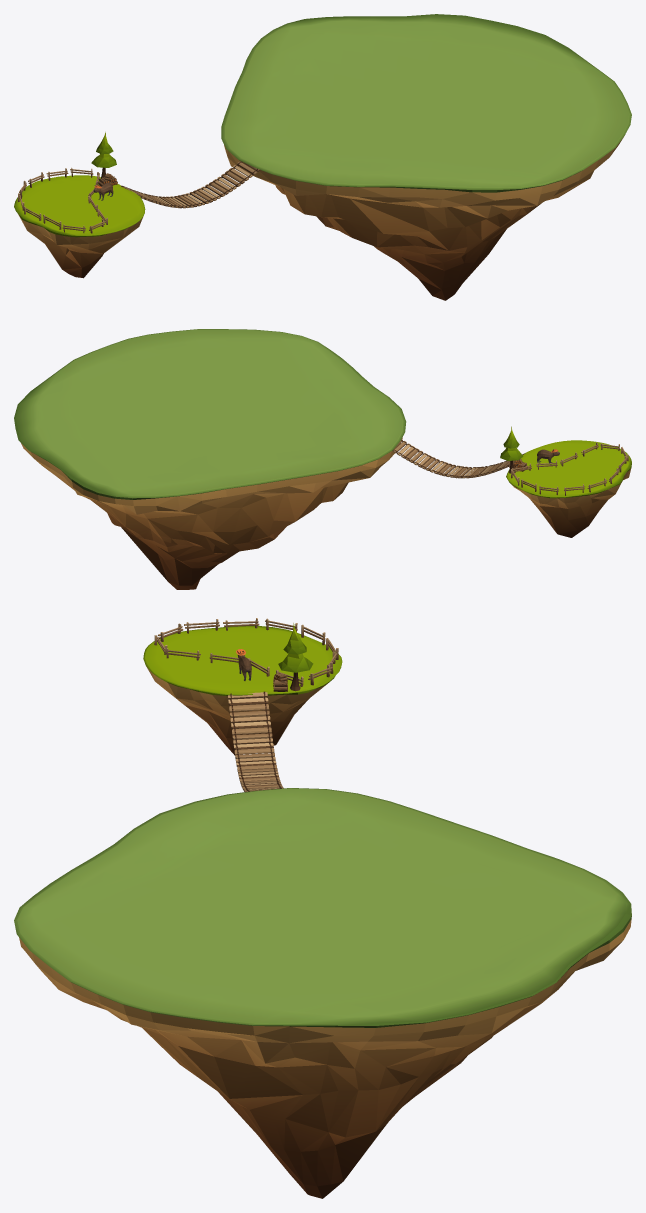
Rendered from island.glb.
3 views of the same model, one above another, from view 1: azimuth 30°, elevation 25°; view 2: azimuth 150°, elevation 25°; view 3: azimuth 270°, elevation 25° (orthographic). The views are drawn at different scales.
Parts seen in each view (by area): view 1: island_B_02, island_A_01, bridge_C_04, pine_A_04; view 2: island_B_02, island_A_01, bridge_C_04, pine_A_04; view 3: island_B_02, island_A_01, bridge_C_04, pine_A_04.
Part boxes in pixels (left/top/right/bottom): island_B_02: left=221, top=14, right=631, bottom=300; island_A_01: left=14, top=175, right=145, bottom=278; bridge_C_04: left=121, top=161, right=260, bottom=208; pine_A_04: left=91, top=132, right=116, bottom=178; island_B_02: left=14, top=329, right=406, bottom=589; island_A_01: left=506, top=440, right=631, bottom=537; bridge_C_04: left=392, top=439, right=525, bottom=478; pine_A_04: left=500, top=426, right=523, bottom=473; island_B_02: left=14, top=788, right=631, bottom=1198; island_A_01: left=143, top=625, right=342, bottom=755; bridge_C_04: left=228, top=691, right=283, bottom=791; pine_A_04: left=278, top=623, right=313, bottom=691.
Bounding box in the file's own units: 22.86 × 9.53 × 15.36.
3 materials, 2 textured.
